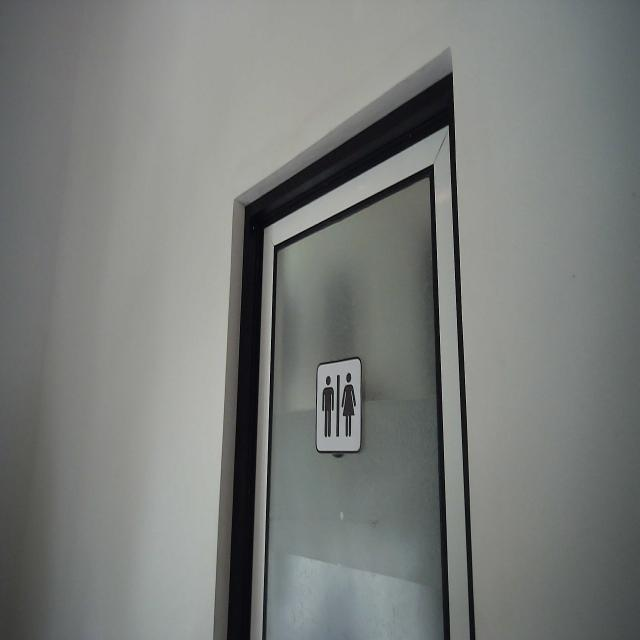stop: (314, 354, 364, 458)
